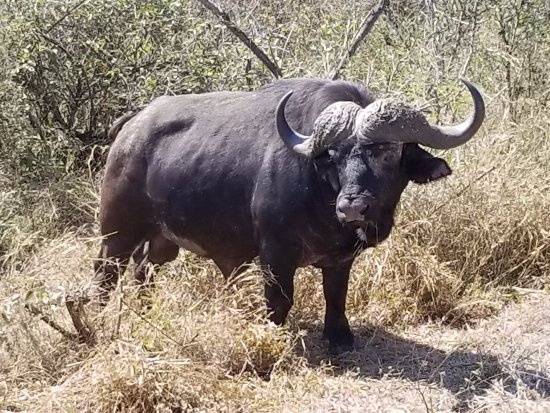buffalo: (87, 75, 488, 360)
